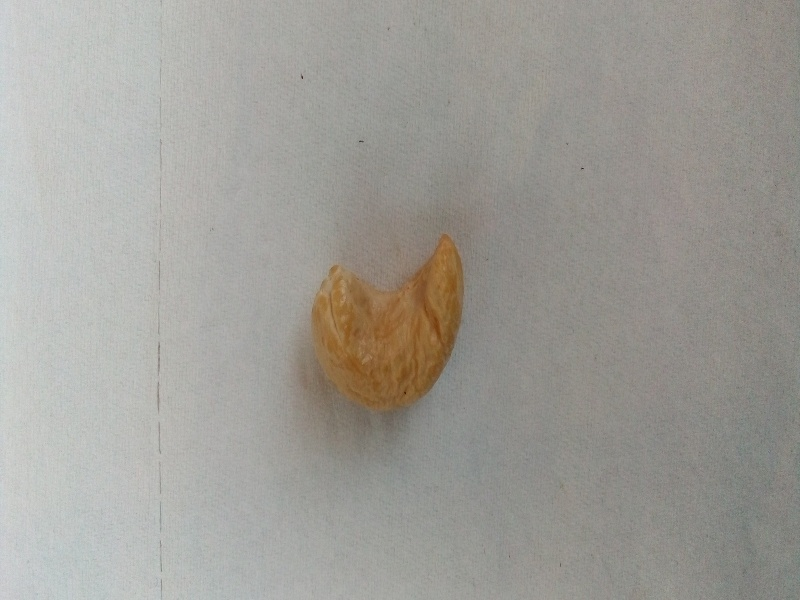cashew: (279, 222, 492, 426)
